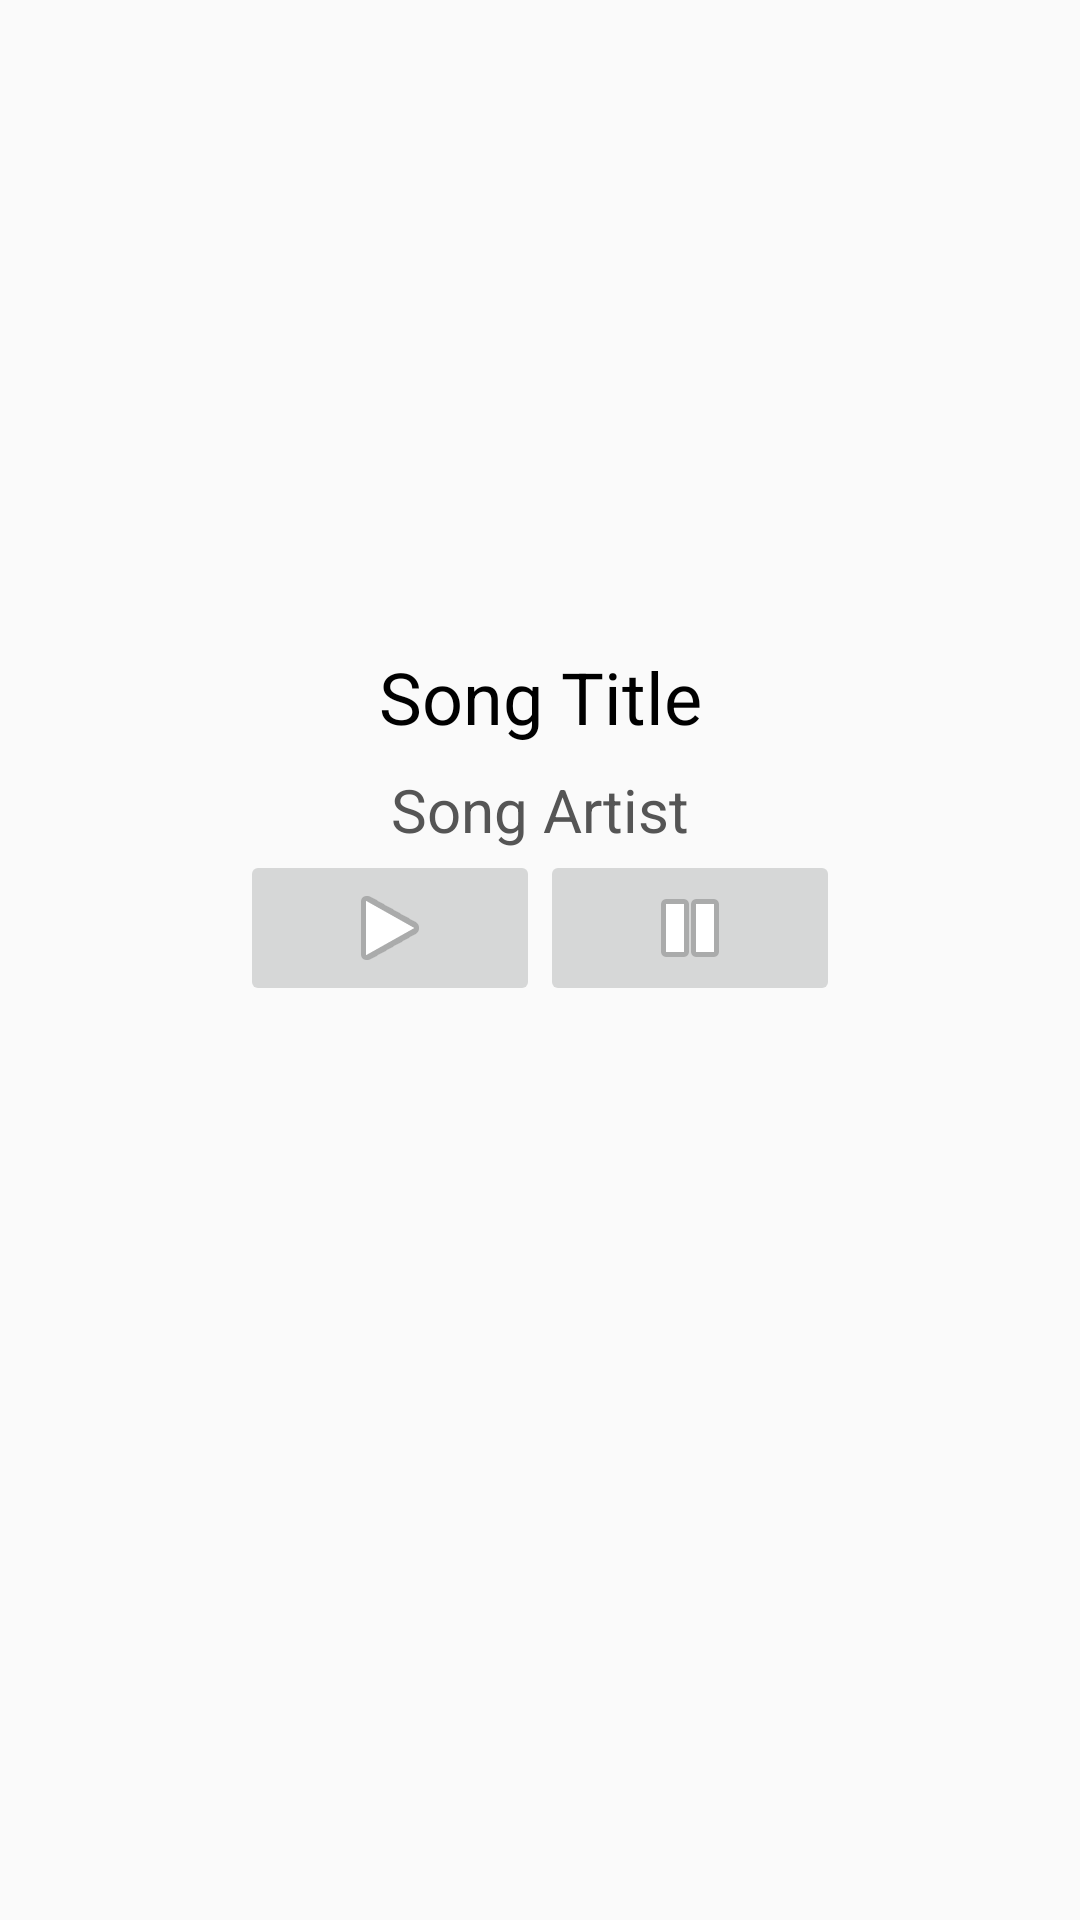

Icons on this 1080 × 1920 Android screen, each with the point to tap as point (x, y):
pause: point (690, 928)
play: point (390, 928)
